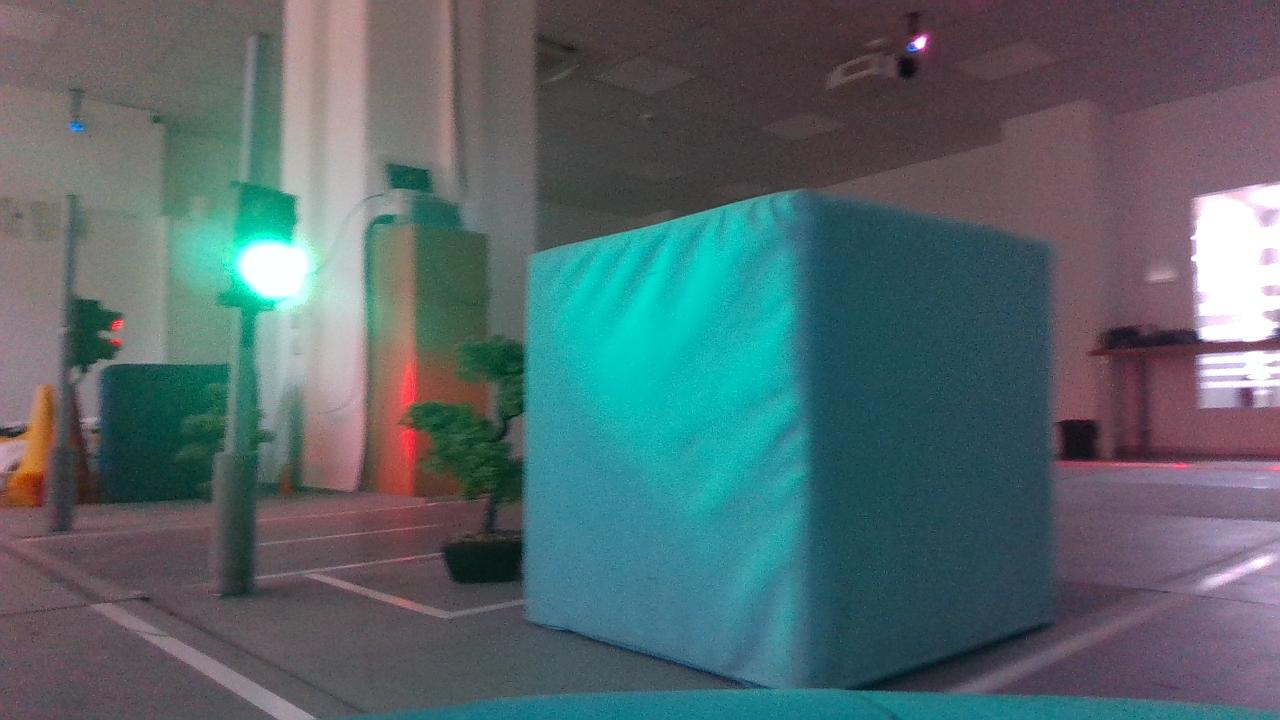traffic_light_green: (189, 165, 323, 333)
